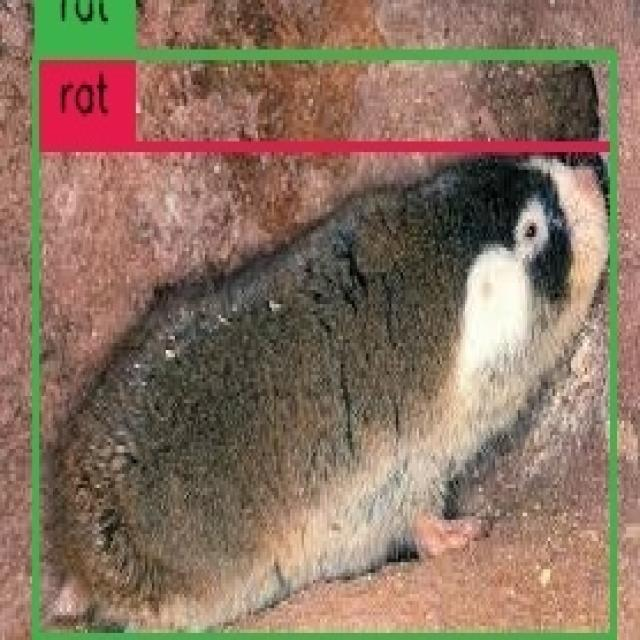rat: (35, 56, 614, 636), (37, 147, 612, 638)
